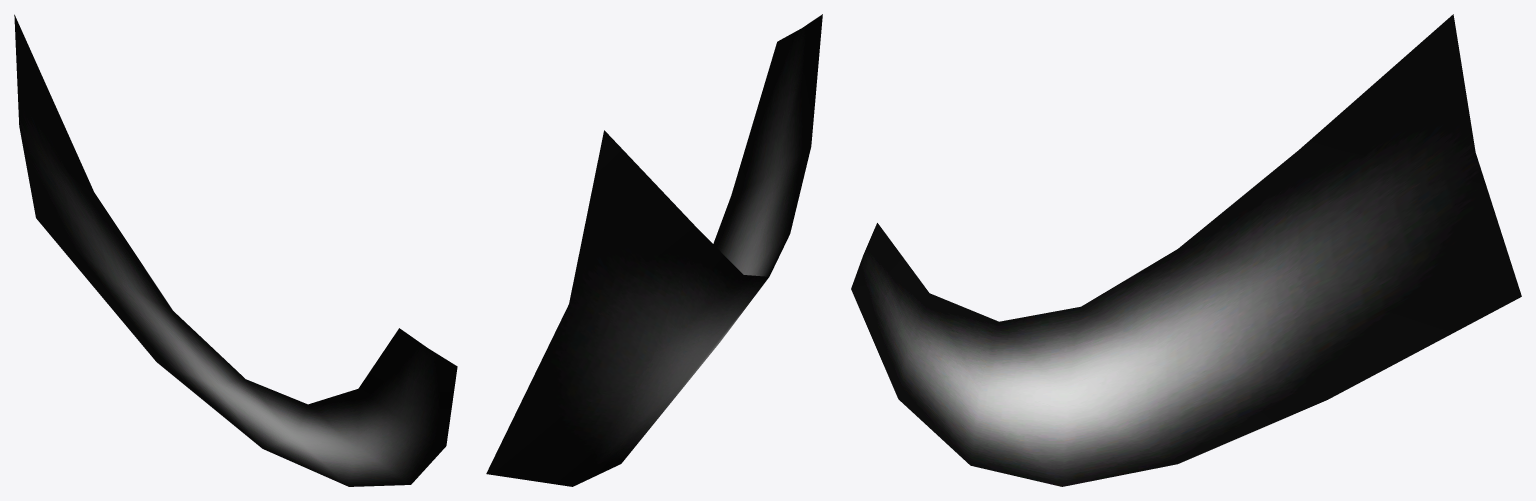
Rendered from vfx_kurp_0852.dae.
The picture shows the model from 3 angles, left to right: view 1: azimuth 30°, elevation 25°; view 2: azimuth 150°, elevation 25°; view 3: azimuth 270°, elevation 25°; orthographic projection. The views are drawn at different scales.
Visible parts, largest first — view 1: vfx_kurp_0852; view 2: vfx_kurp_0852; view 3: vfx_kurp_0852.
Boxes of the visible parts, x1,y1,x2,y2 form: vfx_kurp_0852: (14, 14, 457, 486); vfx_kurp_0852: (486, 14, 822, 486); vfx_kurp_0852: (851, 14, 1521, 486).
Size of the model in its own units: 2.49 by 8.05 by 5.24.
Materials: 1 (1 with a texture image).
